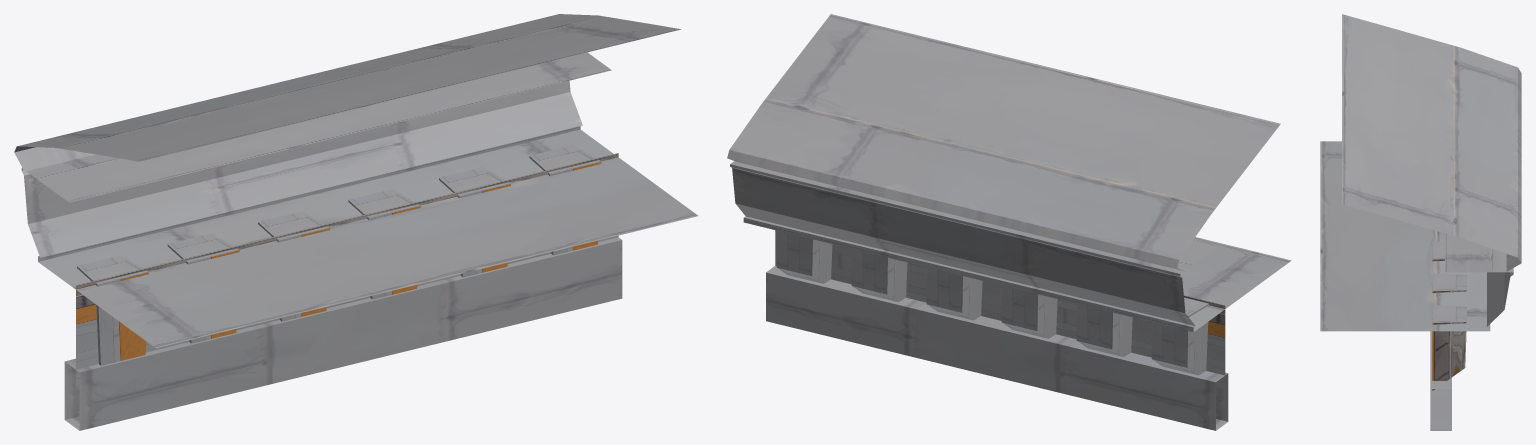
File: SM_Roof_Side.fbx
3 views of the same model, side by side, from view 1: azimuth 30°, elevation 25°; view 2: azimuth 150°, elevation 25°; view 3: azimuth 270°, elevation 25° (orthographic). The views are drawn at different scales.
Visible parts, largest first — view 1: SM_Roof_Side; view 2: SM_Roof_Side; view 3: SM_Roof_Side.
Boxes of the visible parts, <box> form: SM_Roof_Side: <box>14,14,698,430</box>; SM_Roof_Side: <box>727,14,1291,430</box>; SM_Roof_Side: <box>1320,14,1521,430</box>.
Size of the model in its own units: 4.01 by 2.22 by 1.79.
